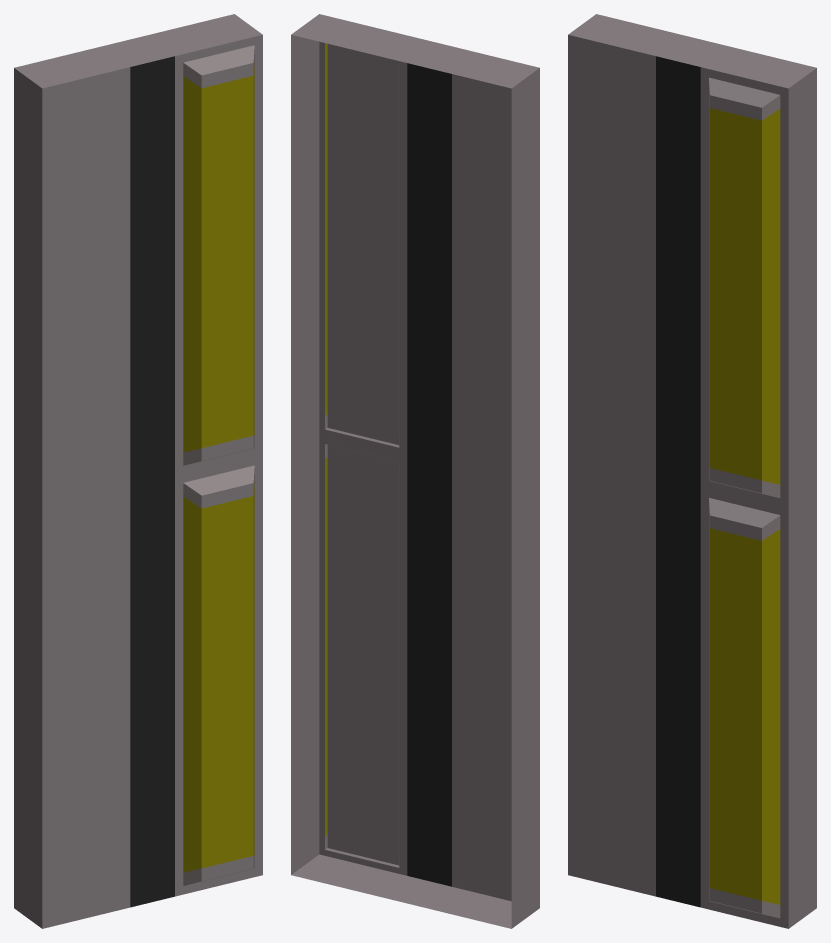
The model's file is Lamps_03.fbx.
3 renders of one model, left to right at view 1: azimuth 30°, elevation 25°; view 2: azimuth 150°, elevation 25°; view 3: azimuth 330°, elevation 25°, orthographic.
Parts seen in each view (by area): view 1: SubwayLamp_01; view 2: SubwayLamp_01; view 3: SubwayLamp_01.
Boxes of the visible parts, x1=… form: SubwayLamp_01: x1=14, y1=14, x2=262, y2=928; SubwayLamp_01: x1=291, y1=14, x2=539, y2=928; SubwayLamp_01: x1=568, y1=14, x2=816, y2=928.
Bounding box in the file's own units: 0.6422 × 2.34 × 0.1868.
